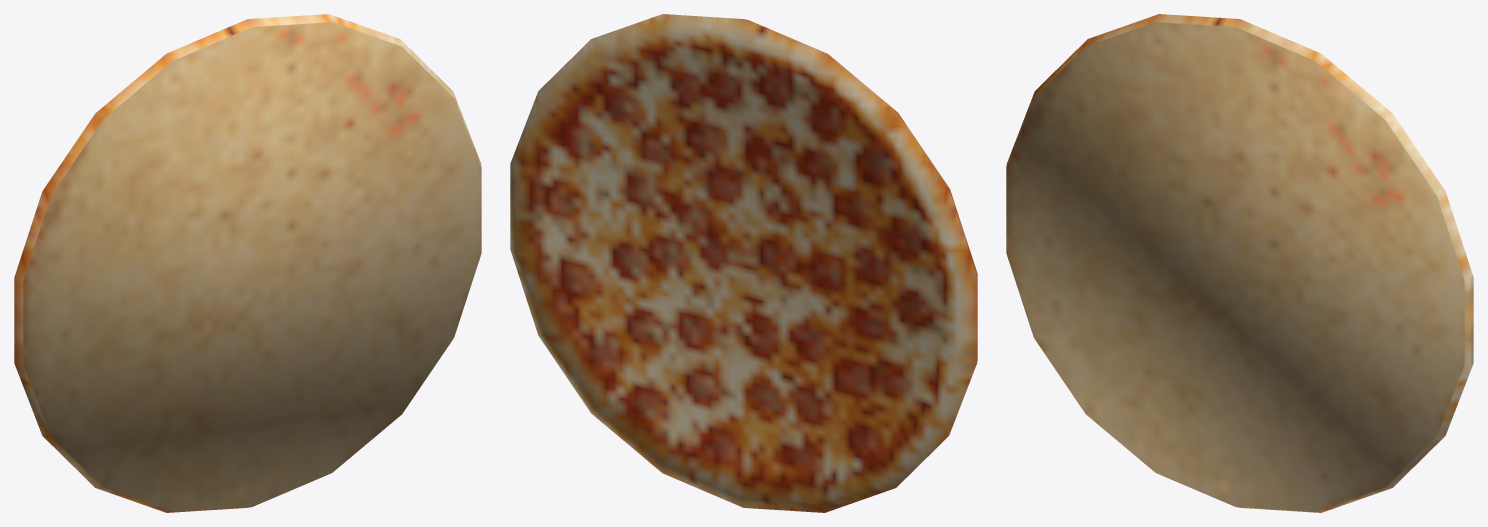
Rendered from item_pizza.glb.
3 renders of one model, left to right at view 1: azimuth 30°, elevation 25°; view 2: azimuth 150°, elevation 25°; view 3: azimuth 330°, elevation 25°, orthographic.
Parts seen in each view (by area): view 1: whole pepperoni; view 2: whole pepperoni; view 3: whole pepperoni.
Part boxes in pixels (box(x1,y1,x2,y2)): whole pepperoni: box(14, 14, 481, 512); whole pepperoni: box(510, 14, 977, 512); whole pepperoni: box(1006, 14, 1473, 512).
Size of the model in its own units: 0.5525 by 0.5525 by 0.0197.
1 material, 1 textured.
